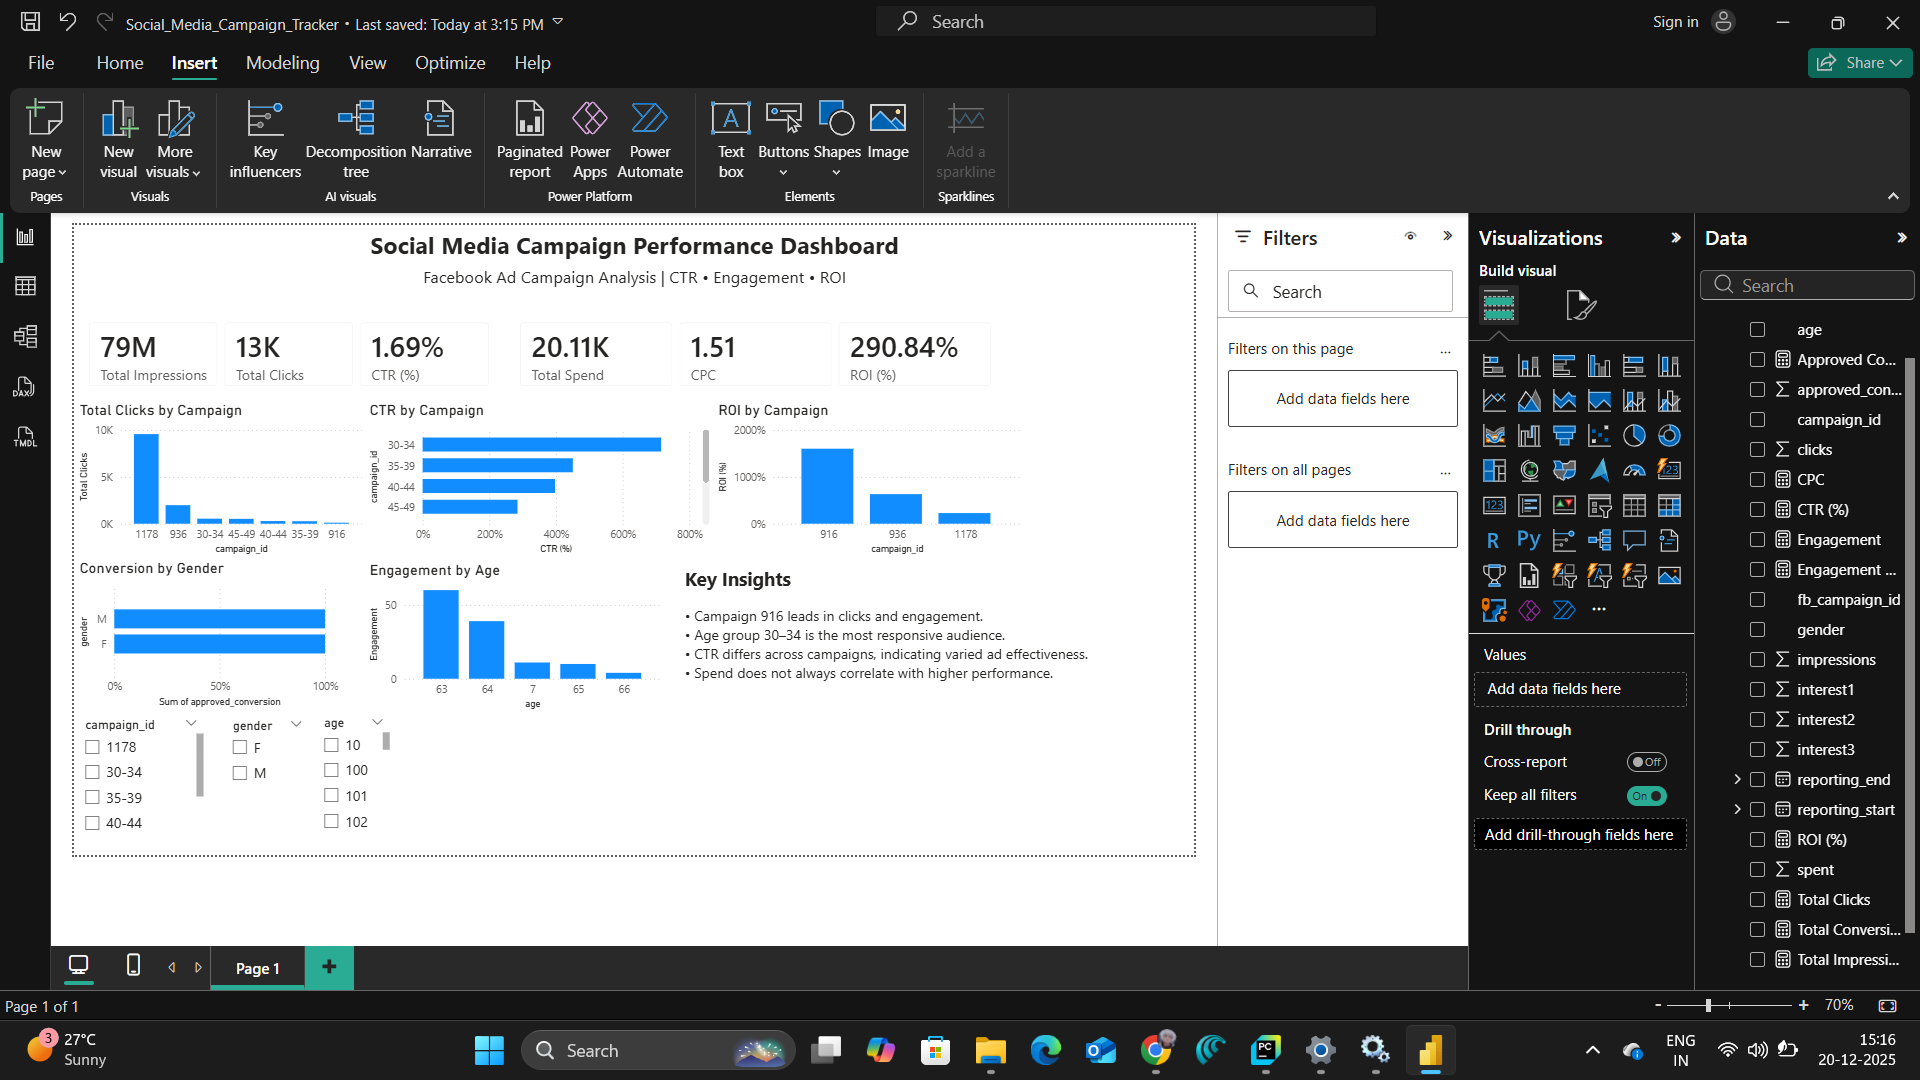

This screenshot's page, from the dashboard's own definition file:
{"tool":"powerbi","page":{"name":"Page 1","canvas":[1280,720],"ordinal":0},"visuals":[{"type":"cardVisual","fields":{"Data":["Facebook_Ads.Total Impressions","Facebook_Ads.Total Clicks","Facebook_Ads.CTR (%)"]},"box":[0,94.3,492.9,107.1],"z":0},{"type":"cardVisual","fields":{"Data":["Facebook_Ads.Total Spend","Facebook_Ads.CPC","Facebook_Ads.ROI (%)"]},"box":[492.9,94.3,572.9,107.1],"z":1000},{"type":"clusteredColumnChart","title":"Total Clicks by Campaign","fields":{"Category":["Facebook_Ads.campaign_id"],"Y":["Facebook_Ads.Total Clicks"]},"box":[1.4,201.4,332.9,180],"z":2000},{"type":"clusteredBarChart","title":"CTR by Campaign","fields":{"Category":["Facebook_Ads.campaign_id"],"Y":["Facebook_Ads.CTR (%)"]},"box":[332.9,201.4,398.6,180],"z":3000},{"type":"clusteredColumnChart","title":"ROI by Campaign","fields":{"Category":["Facebook_Ads.campaign_id"],"Y":["Facebook_Ads.ROI (%)"]},"box":[731.4,201.4,355.7,180],"z":4000},{"type":"hundredPercentStackedBarChart","title":"Conversion by Gender","fields":{"Category":["Facebook_Ads.gender"],"Y":["Sum(Facebook_Ads.approved_conversion)"]},"box":[1.4,381.4,305.7,174.3],"z":5000},{"type":"clusteredColumnChart","title":"Engagement by Age","fields":{"Category":["Facebook_Ads.age"],"Y":["Facebook_Ads.Engagement"]},"box":[332.9,384.3,342.9,174.3],"z":6000},{"type":"slicer","fields":{"Values":["Facebook_Ads.campaign_id"]},"box":[0,557.1,152.9,150],"z":6001},{"type":"slicer","fields":{"Values":["Facebook_Ads.gender"]},"box":[168.6,558.6,104.3,150],"z":6002},{"type":"slicer","fields":{"Values":["Facebook_Ads.age"]},"box":[272.9,555.7,92.9,150],"z":6003},{"type":"textbox","box":[1.4,0,1278.6,55.7],"z":6004},{"type":"textbox","box":[1.4,41.4,1278.6,52.9],"z":6005},{"type":"textbox","box":[692.9,384.3,482.9,171.4],"z":6006}]}

Visuals, with their boxes on the page's 1280x720 design canvas (x1, y1, x2, y2). These are canvas units, not pixel positions in the 1920x1080 screenshot, which may show the page scaled, cropped or inside an application window:
cardVisual - Facebook_Ads.Total Impressions x Facebook_Ads.Total Clicks: (x1=0, y1=94, x2=493, y2=201)
cardVisual - Facebook_Ads.Total Spend x Facebook_Ads.CPC: (x1=493, y1=94, x2=1066, y2=201)
"Total Clicks by Campaign" clusteredColumnChart: (x1=1, y1=201, x2=334, y2=381)
"CTR by Campaign" clusteredBarChart: (x1=333, y1=201, x2=732, y2=381)
"ROI by Campaign" clusteredColumnChart: (x1=731, y1=201, x2=1087, y2=381)
"Conversion by Gender" hundredPercentStackedBarChart: (x1=1, y1=381, x2=307, y2=556)
"Engagement by Age" clusteredColumnChart: (x1=333, y1=384, x2=676, y2=559)
slicer - Facebook_Ads.campaign_id: (x1=0, y1=557, x2=153, y2=707)
slicer - Facebook_Ads.gender: (x1=169, y1=559, x2=273, y2=709)
slicer - Facebook_Ads.age: (x1=273, y1=556, x2=366, y2=706)
textbox: (x1=1, y1=0, x2=1280, y2=56)
textbox: (x1=1, y1=41, x2=1280, y2=94)
textbox: (x1=693, y1=384, x2=1176, y2=556)
